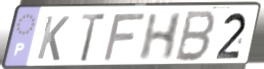2: (215, 11, 247, 61)
B: (172, 9, 219, 64)
F: (100, 11, 149, 64)
H: (136, 11, 186, 63)
K: (34, 14, 71, 63)
T: (79, 12, 109, 64)
